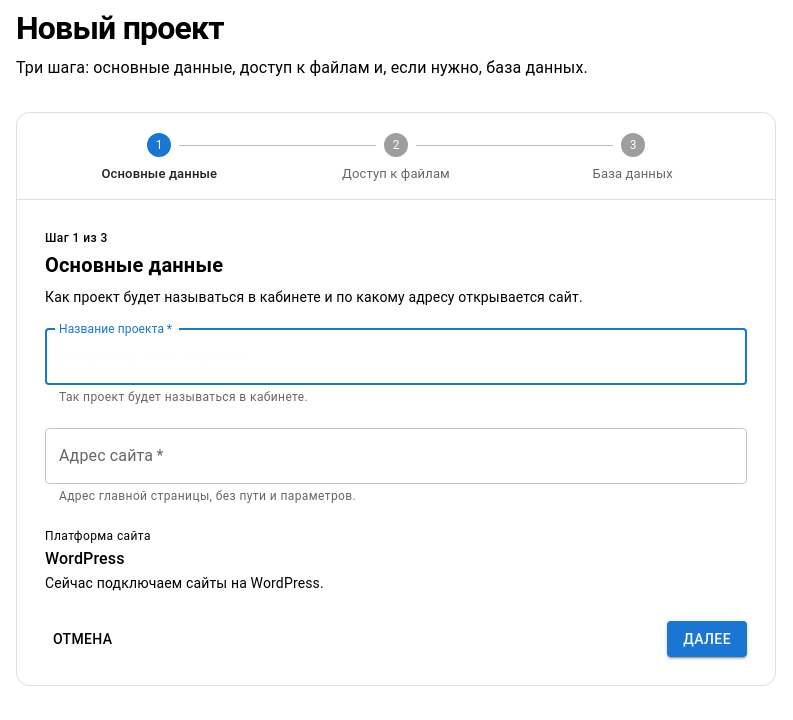
the first step › checks the name and the address on the server and opens the next step on its heading
The image size is (793, 720).
In the field labelled "Название проекта *": x=396, y=357 [45, 329, 747, 385], type "Кофейня"
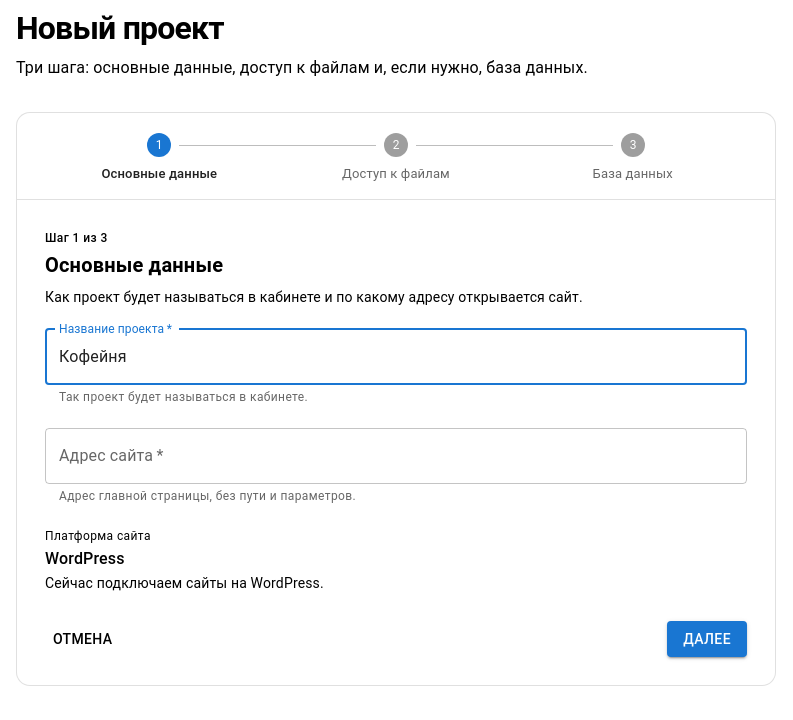
In the field labelled "Адрес сайта *": x=396, y=456 [45, 428, 747, 484], type "example.ru"
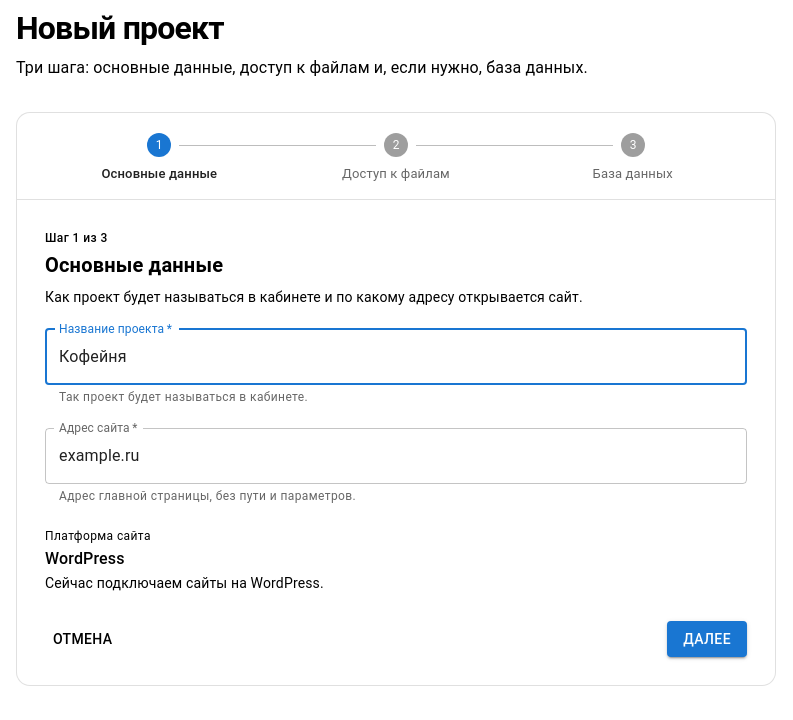
Click the button "Далее": x=707, y=639 [667, 621, 747, 657]
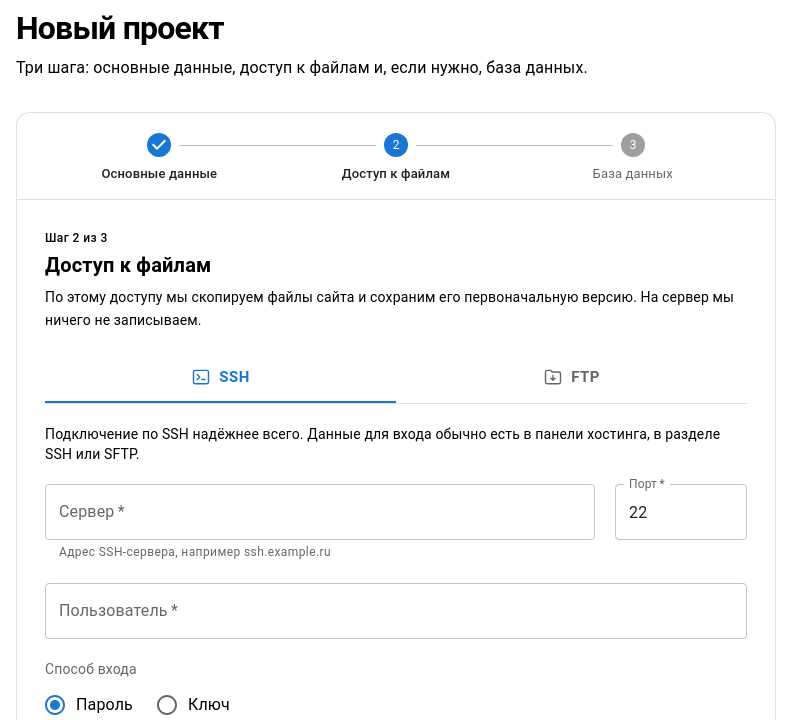
Expected: the heading "Доступ к файлам" is shown, [45, 254, 211, 278]
